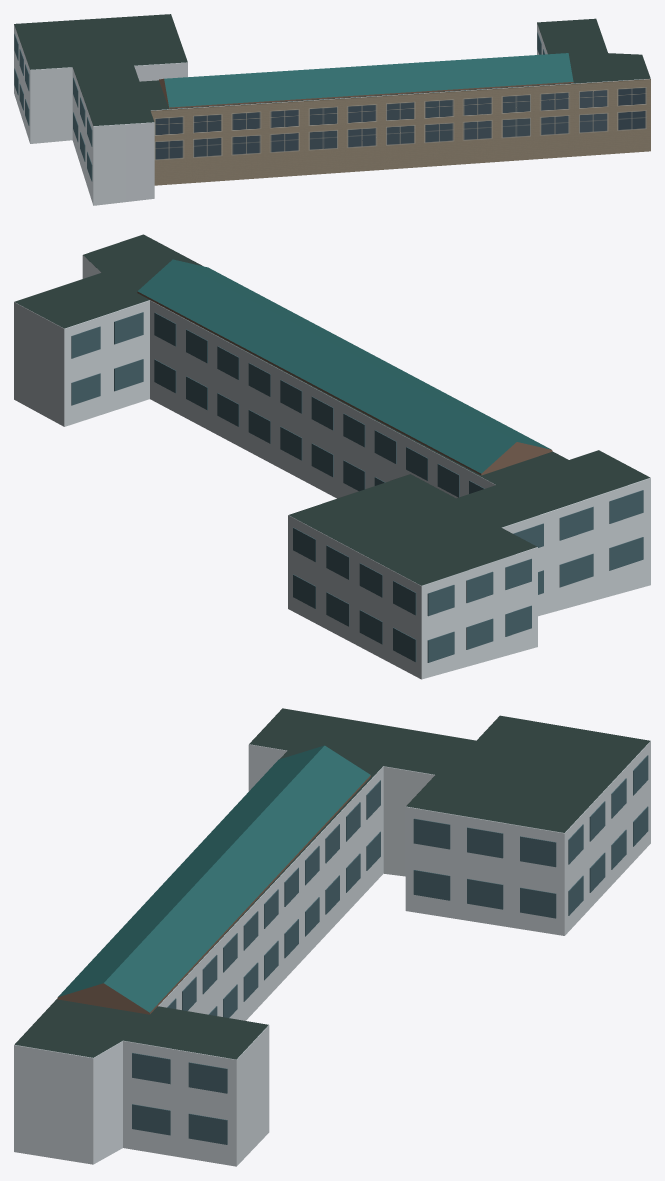
Rendered from intact.glb.
3 renders of one model, top to bottom at view 1: azimuth 30°, elevation 25°; view 2: azimuth 150°, elevation 25°; view 3: azimuth 270°, elevation 25°, orthographic. The views are drawn at different scales.
Parts seen in each view (by area): view 1: SM_educgrad_Intact_00, SM_educgrad_Intact_01; view 2: SM_educgrad_Intact_00, SM_educgrad_Intact_01; view 3: SM_educgrad_Intact_00, SM_educgrad_Intact_01.
Part boxes in pixels (box(x1,y1,x2,y2)): SM_educgrad_Intact_00: box(14, 14, 650, 205); SM_educgrad_Intact_01: box(14, 32, 544, 181); SM_educgrad_Intact_00: box(14, 234, 650, 679); SM_educgrad_Intact_01: box(71, 312, 643, 662); SM_educgrad_Intact_00: box(14, 708, 650, 1166); SM_educgrad_Intact_01: box(132, 755, 648, 1144).
Bounding box in the file's own units: 2.2 × 0.4138 × 1.68.
6 materials, 1 textured.
